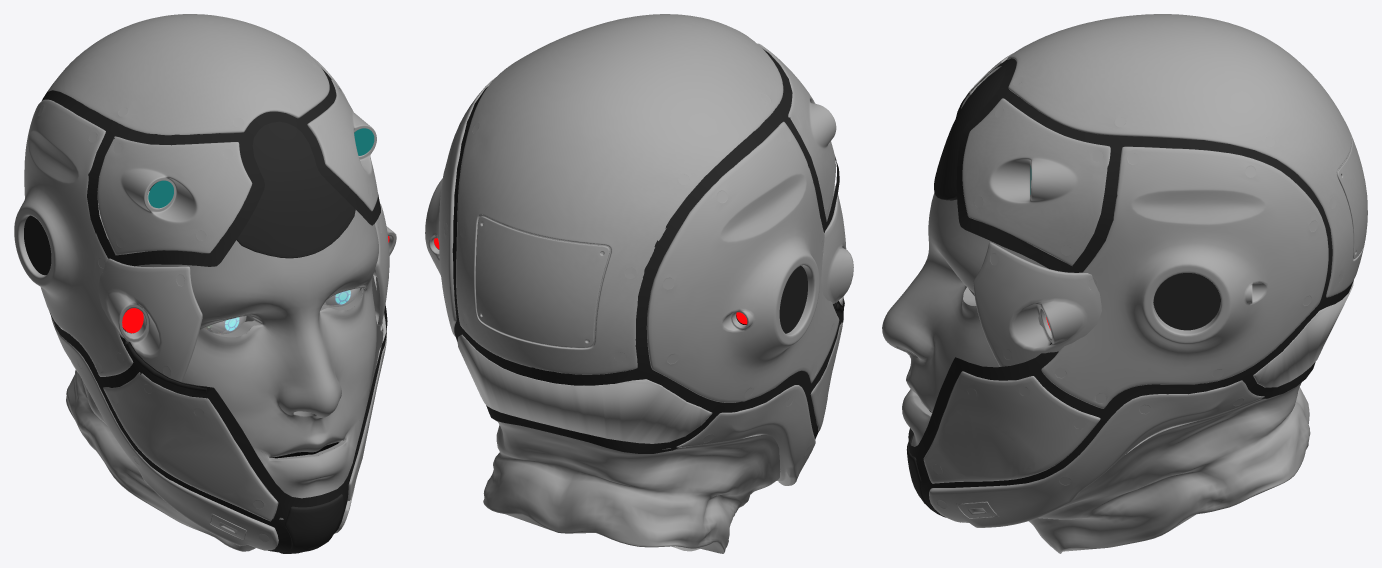
File: SergioJAModel-optimized.glb
The picture shows the model from 3 angles, left to right: view 1: azimuth 30°, elevation 25°; view 2: azimuth 150°, elevation 25°; view 3: azimuth 270°, elevation 25°; orthographic projection. The views are drawn at different scales.
Parts seen in each view (by area): view 1: polySurface2, cabeza pare superior, cinta del borde, oidos.004, Ojos superiores.002, ojos inferiores rojos, frente, Ojos medios, barbilla lateral.001, cuello, Ojos superiores, mentonera (+4 smaller); view 2: cabeza pare superior, oidos.004, cuello, cinta del borde, cinta del borde.002, barbilla lateral.001, oidos, Ojos superiores.002, Ojos medios, oidos.002, ojos inferiores rojos; view 3: oidos, cabeza pare superior, cuello, cinta del borde, Ojos superiores, polySurface2, ojos inferiores rojos.001, barbilla lateral, Ojos medios .001, oidos.001, cinta del borde.002, frente.
Part boxes in pixels (x1,y1,x2,y2): polySurface2: (108, 210, 378, 519); cabeza pare superior: (47, 14, 329, 135); cinta del borde: (42, 69, 387, 552); oidos.004: (14, 99, 133, 376); Ojos superiores.002: (97, 136, 252, 255); ojos inferiores rojos: (103, 372, 277, 521); frente: (236, 121, 355, 258); Ojos medios: (98, 258, 202, 382); barbilla lateral.001: (51, 316, 278, 550); cuello: (66, 316, 255, 551); Ojos superiores: (307, 79, 377, 211); mentonera: (280, 494, 343, 553); cabeza pare superior: (456, 14, 783, 374); oidos.004: (646, 121, 839, 402); cuello: (483, 421, 780, 553); cinta del borde: (452, 49, 844, 453); cinta del borde.002: (457, 334, 712, 443); barbilla lateral.001: (676, 385, 815, 485); oidos: (425, 77, 495, 336); Ojos superiores.002: (757, 43, 836, 218); Ojos medios: (821, 184, 853, 305); oidos.002: (779, 266, 807, 333); ojos inferiores rojos: (810, 322, 843, 430); oidos: (1041, 146, 1328, 408); cabeza pare superior: (1007, 14, 1367, 297); cuello: (1029, 317, 1310, 553); cinta del borde: (908, 58, 1353, 522); Ojos superiores: (962, 98, 1110, 265); polySurface2: (882, 192, 1059, 459); ojos inferiores rojos.001: (923, 371, 1100, 483); barbilla lateral: (929, 380, 1264, 527); Ojos medios .001: (973, 242, 1101, 366); oidos.001: (1153, 273, 1220, 330); cinta del borde.002: (1253, 281, 1353, 387); frente: (934, 66, 1005, 200).
Bounding box in the file's own units: 0.5609 × 0.8391 × 0.7118.
8 materials, 2 textured.
